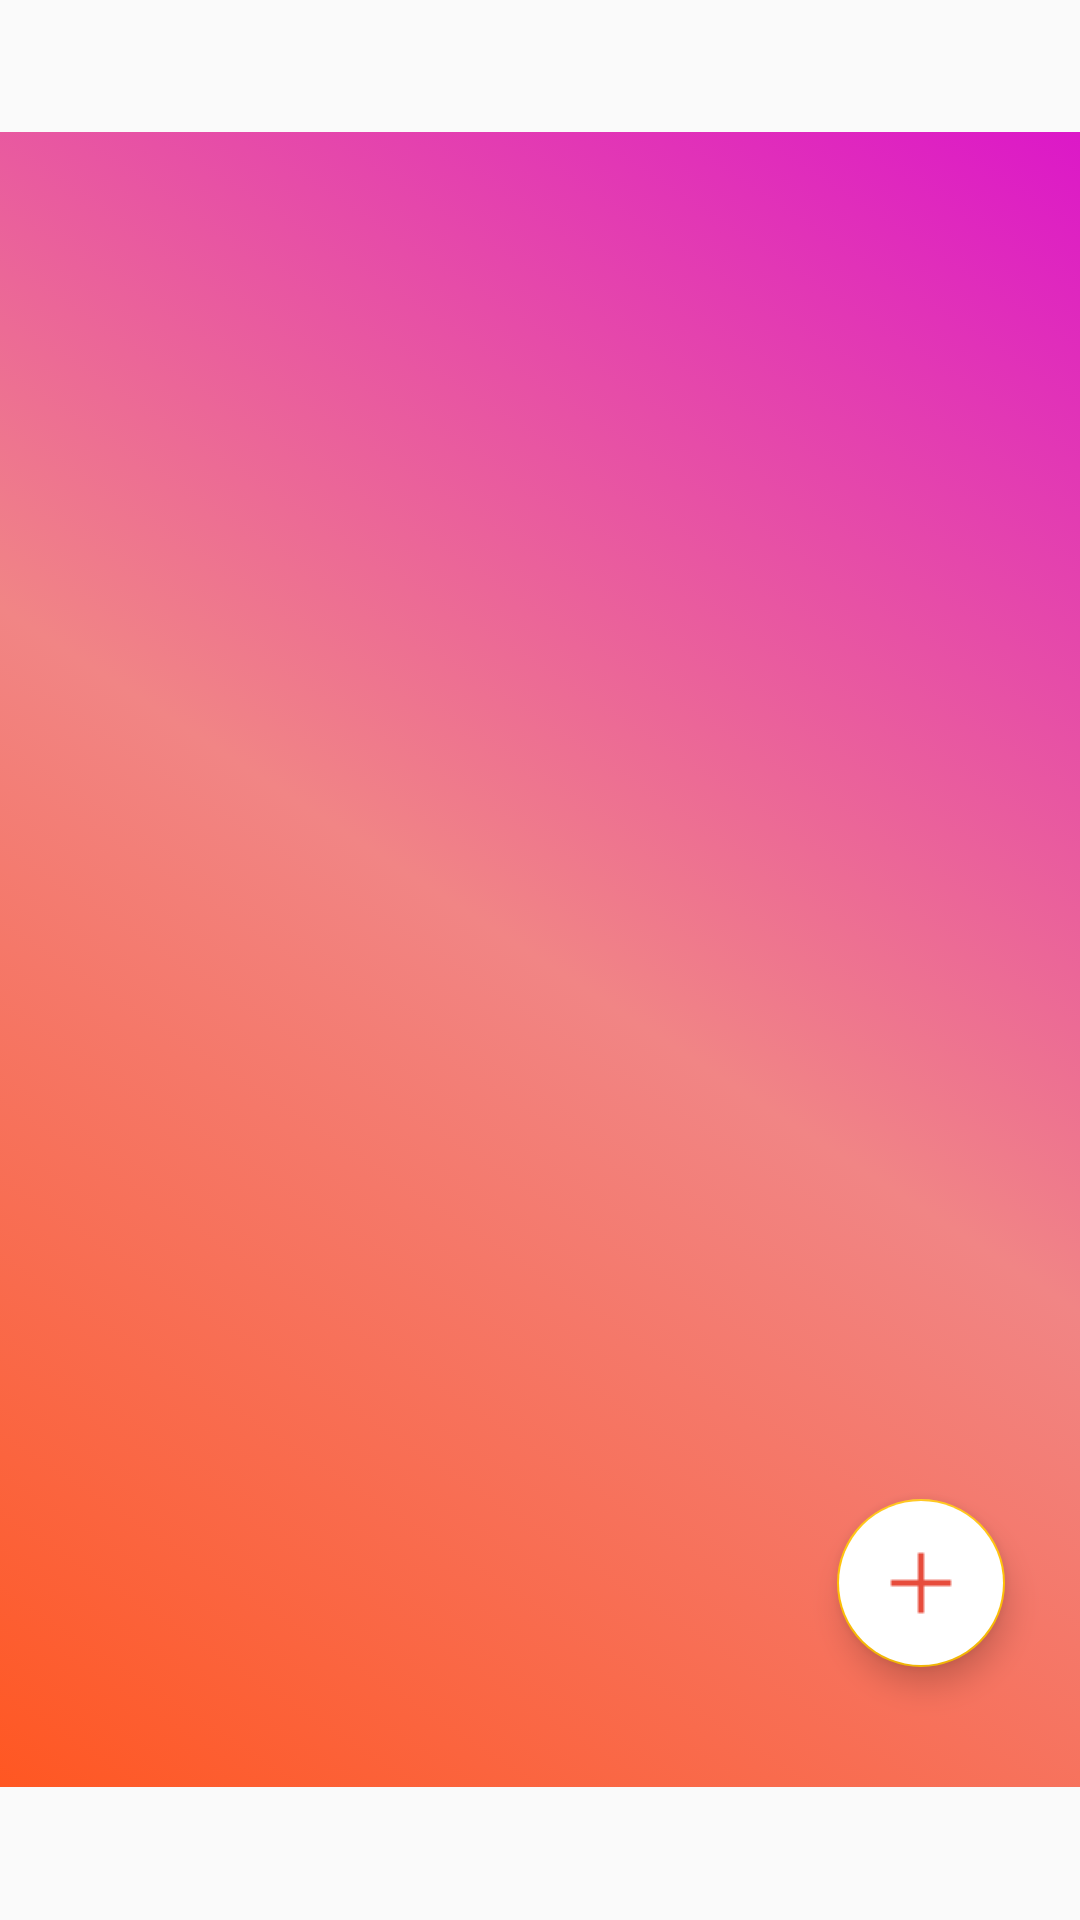

Named icons in this screenshot (1080 × 1920) and their bounding boxes, bbox(x1, y1, x2, y2):
plus: bbox(837, 1499, 1005, 1667)
